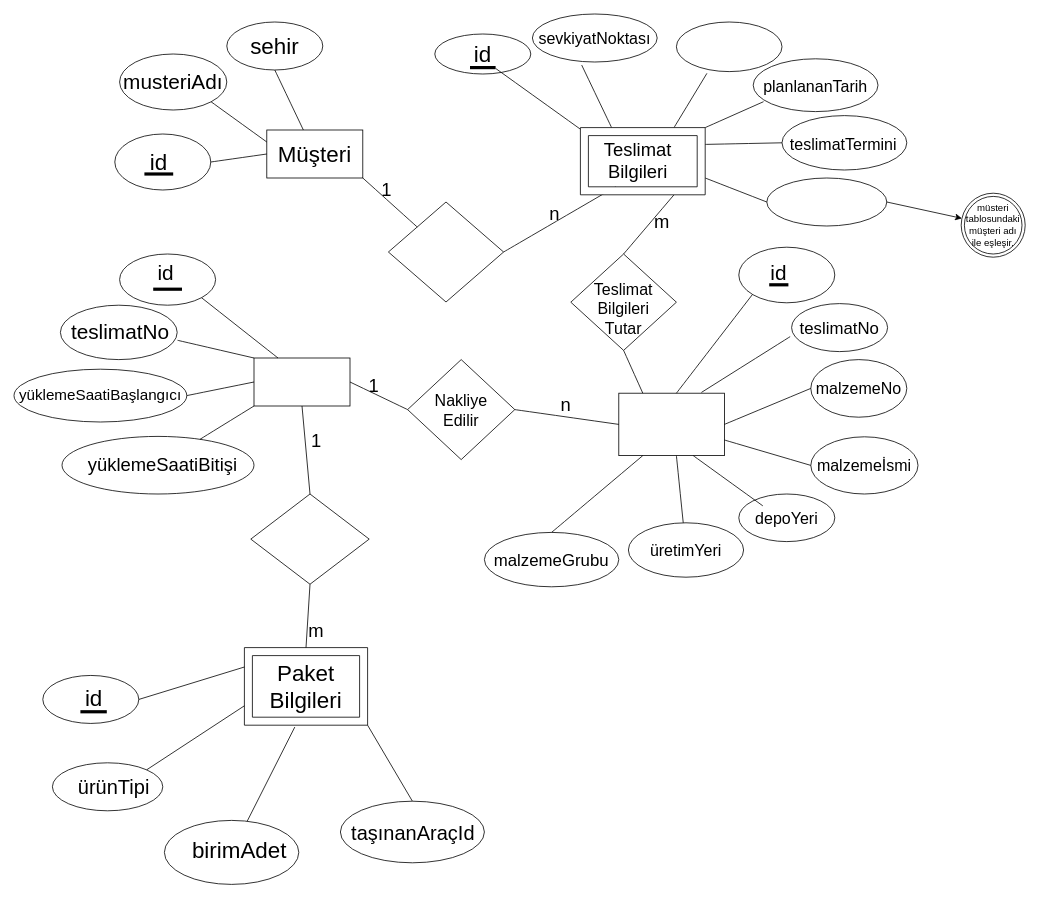
Image size: 1039x898. Some labels were removed from this diagram. The shapes that lost their labels are listed below. From the top down, each one's centre as x and y in pixels, then its label:
At pixel 729 46: "teslimatTürü".
At pixel 826 201: "teslimAlacak".
At pixel 446 251: "Teslim Edilir".
At pixel 301 381: "Nakliye".
At pixel 671 424: "Teslimat Bilgileri Kalemi".
At pixel 309 538: "Nakliye Bilgileri Tutulur".
